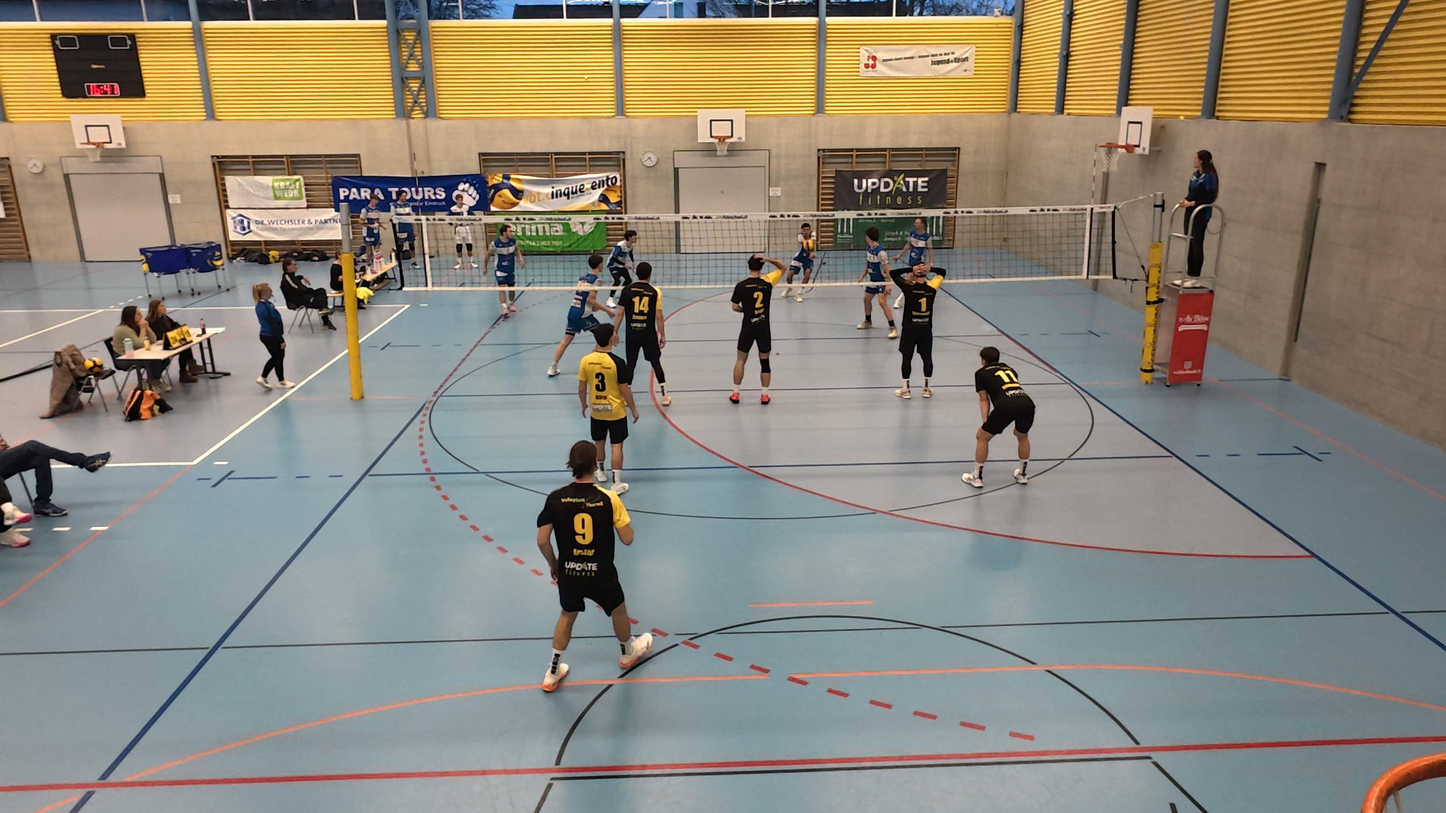Player: (537, 444, 660, 690), (967, 345, 1037, 491), (577, 324, 635, 494), (544, 251, 609, 377), (728, 255, 779, 405), (888, 265, 944, 400), (620, 263, 669, 408), (478, 218, 528, 319), (856, 238, 896, 335), (897, 215, 935, 269), (608, 221, 637, 280)
Receive: (784, 219, 821, 299)
ball: (798, 233, 815, 255)
